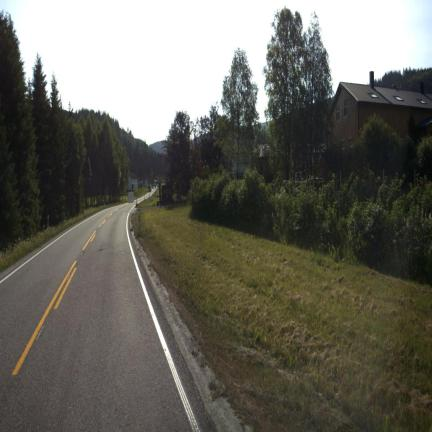Road: (0, 204, 212, 430)
